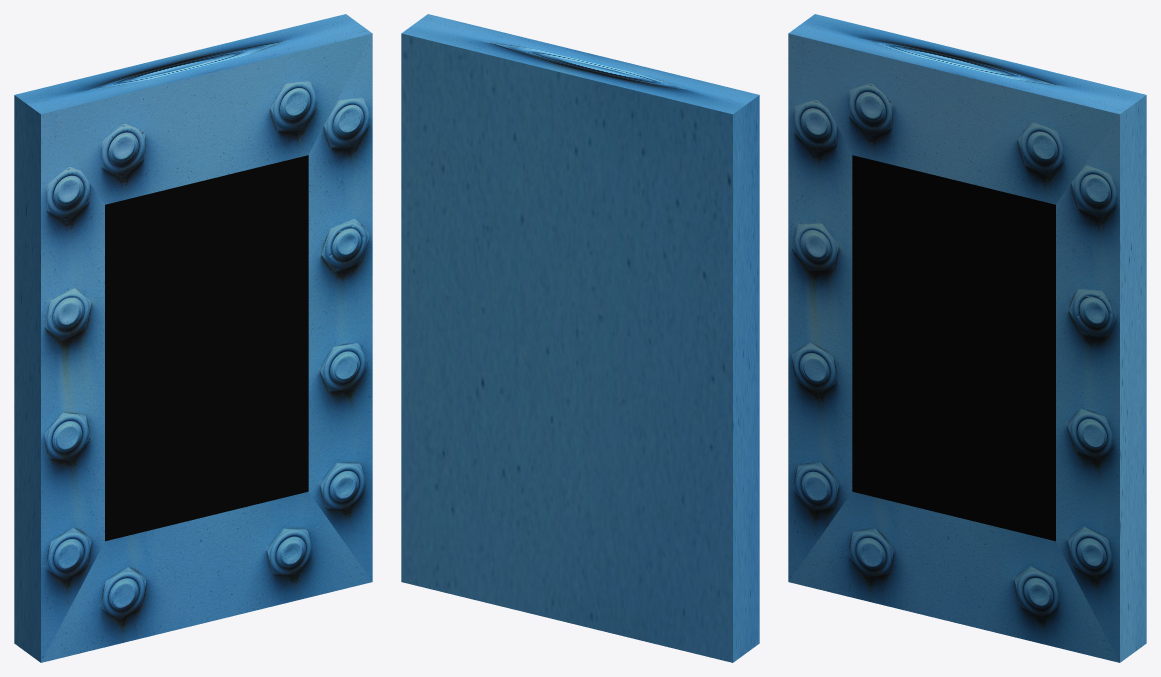
Rendered from RedLightGreenLight_Asset_GunBase.glb.
The picture shows the model from 3 angles, left to right: view 1: azimuth 30°, elevation 25°; view 2: azimuth 150°, elevation 25°; view 3: azimuth 330°, elevation 25°; orthographic projection.
Visible parts, largest first — view 1: gun base; view 2: gun base; view 3: gun base.
Part boxes in pixels (box(x1,y1,x2,y2)): gun base: box(14, 14, 372, 662); gun base: box(401, 14, 759, 662); gun base: box(788, 14, 1146, 662).
Size of the model in its own units: 2.52 by 3.99 by 0.3507.
2 materials, 1 textured.
